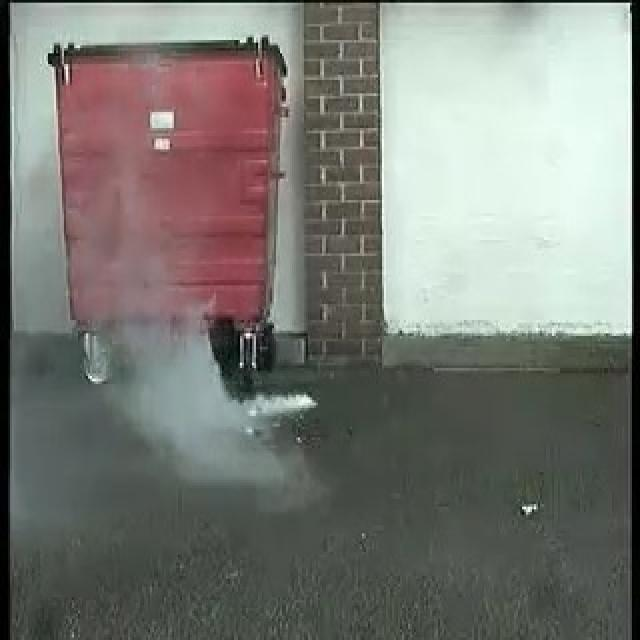Smoke: (118, 313, 319, 459)
